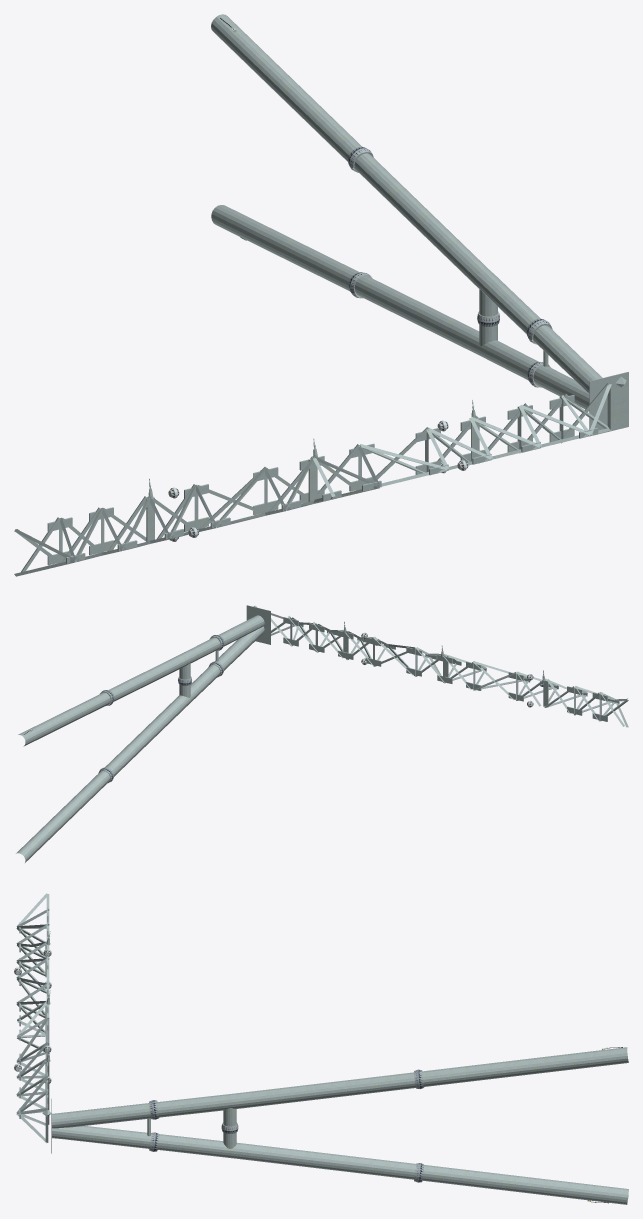
File: jg-lmj-102-geode.glb
3 renders of one model, top to bottom at view 1: azimuth 30°, elevation 25°; view 2: azimuth 150°, elevation 25°; view 3: azimuth 270°, elevation 25°, orthographic. The views are drawn at different scales.
Visible parts, largest first — view 1: Node; view 2: Node; view 3: Node.
Part boxes in pixels (bbox=[...]): Node: bbox=[14, 14, 628, 576]; Node: bbox=[16, 605, 628, 862]; Node: bbox=[14, 893, 628, 1204].
Bounding box in the file's own units: 13.31 × 4.33 × 15.48.
10 materials, 10 textured.
